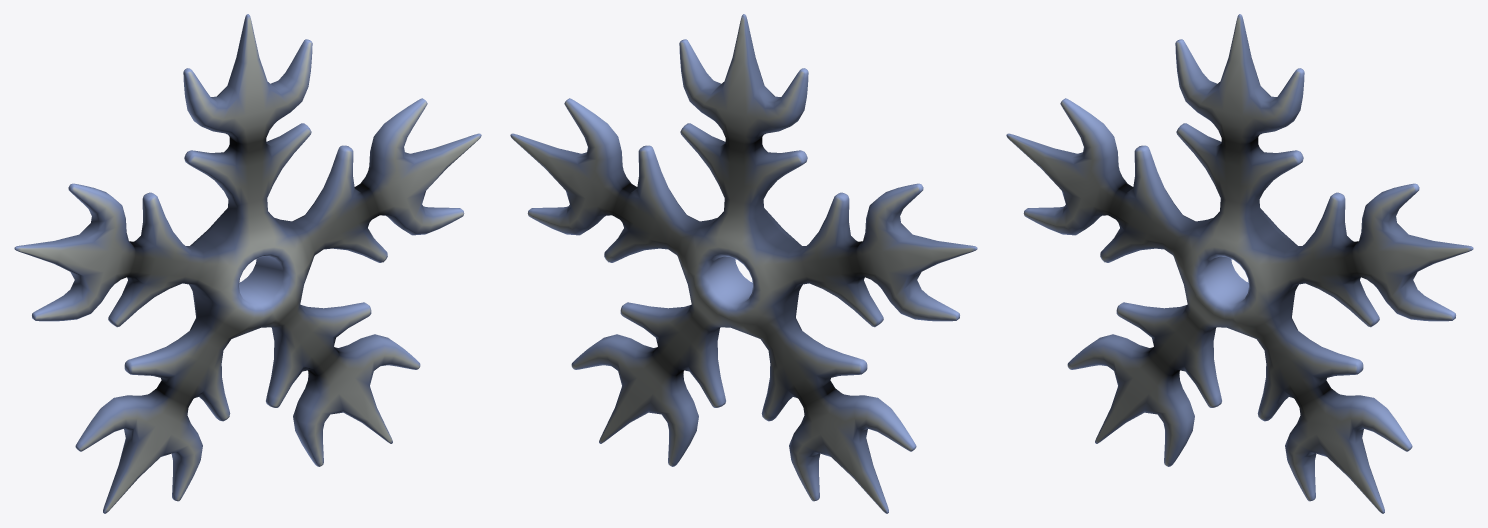
The model's file is Snowflake_02.fbx.
3 views of the same model, side by side, from view 1: azimuth 30°, elevation 25°; view 2: azimuth 150°, elevation 25°; view 3: azimuth 330°, elevation 25° (orthographic).
Visible parts, largest first — view 1: Snowflake_02; view 2: Snowflake_02; view 3: Snowflake_02.
Boxes of the visible parts, <box> form: Snowflake_02: <box>14,14,481,513</box>; Snowflake_02: <box>510,14,977,513</box>; Snowflake_02: <box>1006,14,1473,513</box>.
Bounding box in the file's own units: 81.85 × 78.61 × 9.65.
